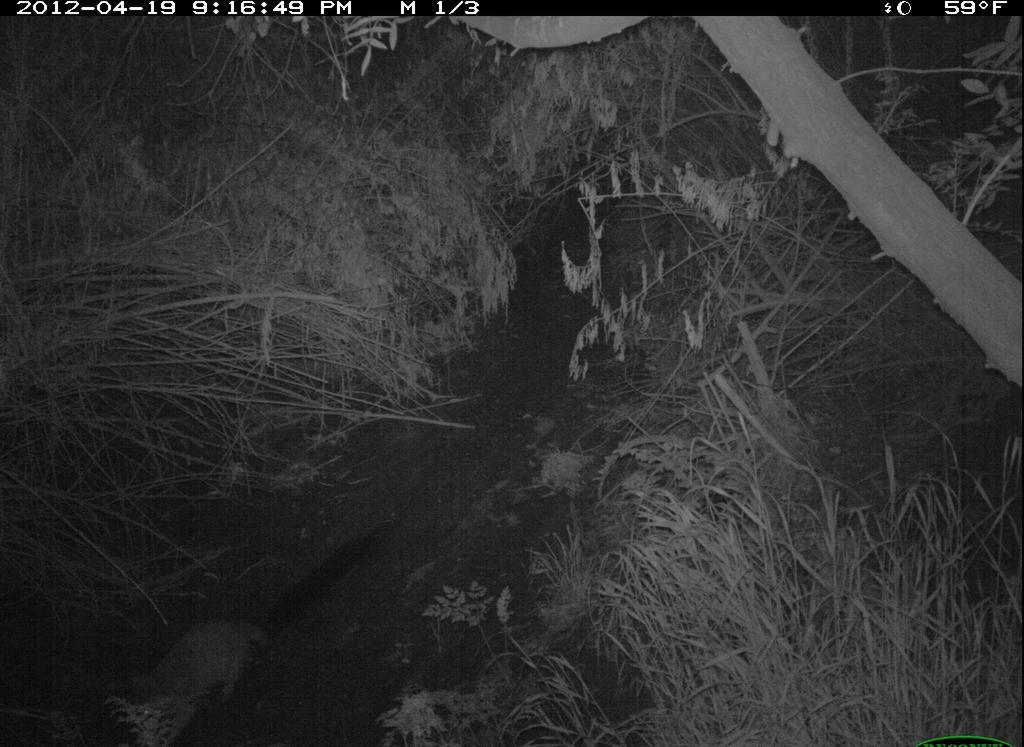raccoon: (94, 594, 297, 744)
